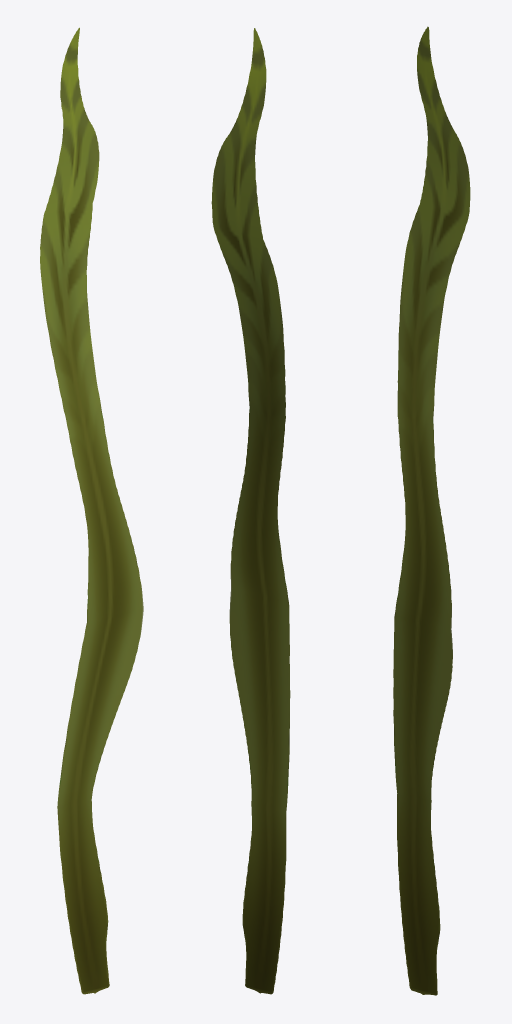
The model's file is SeaWeed_07.FBX.
3 views of the same model, side by side, from view 1: azimuth 30°, elevation 25°; view 2: azimuth 150°, elevation 25°; view 3: azimuth 330°, elevation 25° (orthographic).
Visible parts, largest first — view 1: SeaWeed_07; view 2: SeaWeed_07; view 3: SeaWeed_07.
Boxes of the visible parts, left/top/right/bottom form: SeaWeed_07: left=40, top=27, right=143, bottom=994; SeaWeed_07: left=211, top=28, right=290, bottom=994; SeaWeed_07: left=393, top=26, right=470, bottom=995.
Bounding box in the file's own units: 8.47 × 72.53 × 4.68.
